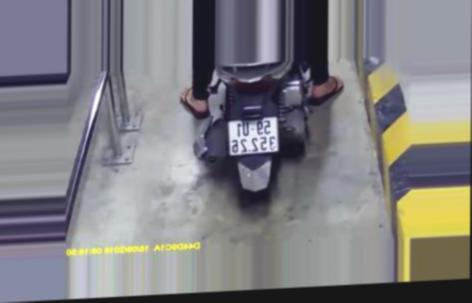License_Plate: (224, 113, 283, 161)
